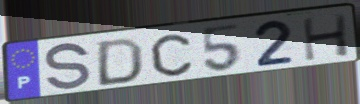2: (251, 18, 298, 69)
5: (199, 21, 244, 74)
C: (148, 32, 195, 78)
D: (95, 36, 146, 88)
H: (299, 11, 352, 63)
S: (42, 40, 93, 94)
